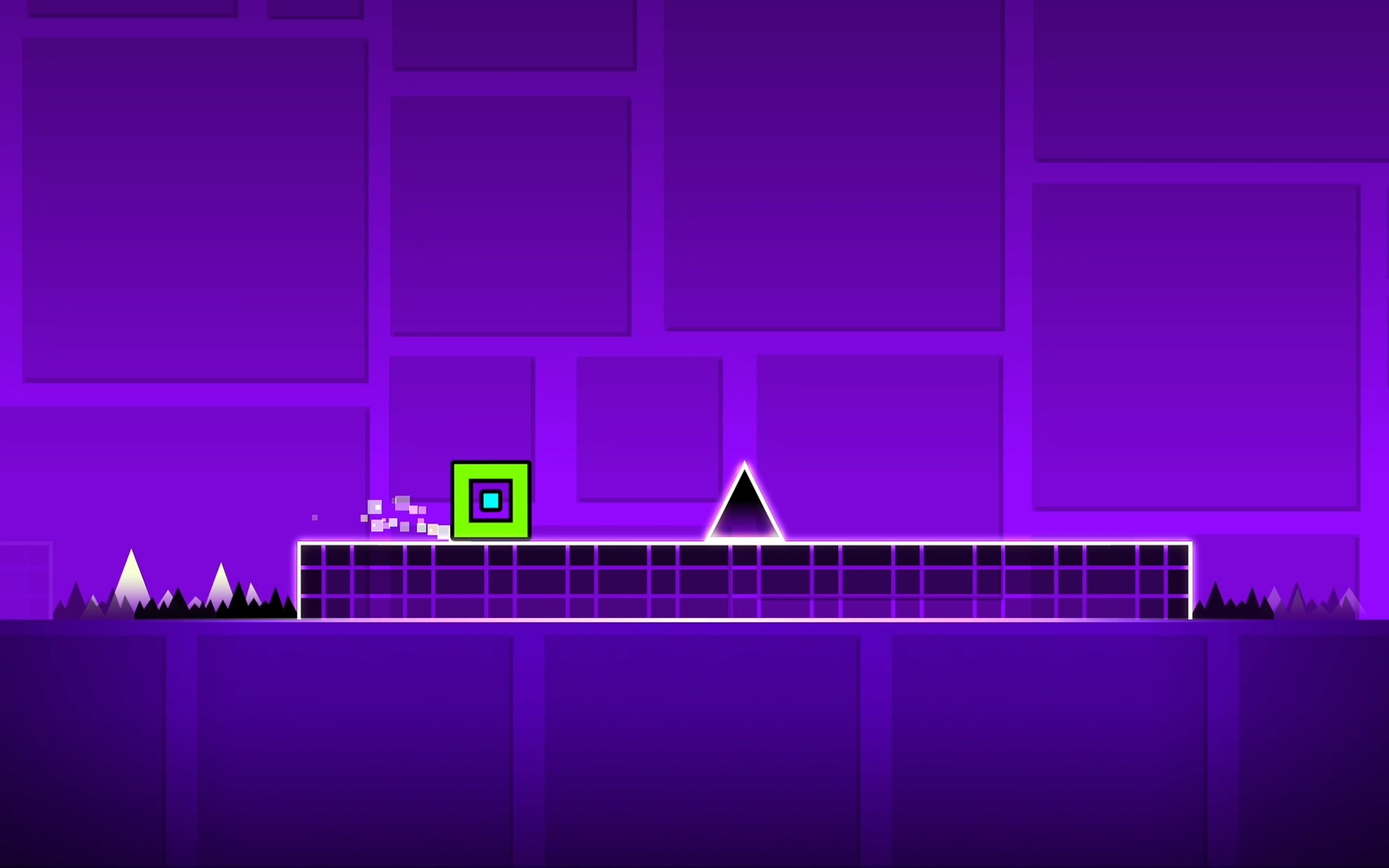Block2: (298, 540, 1183, 615)
Player: (449, 461, 530, 539)
Spike: (707, 463, 781, 539)
Spike3: (50, 582, 297, 622), (1191, 581, 1364, 621)
